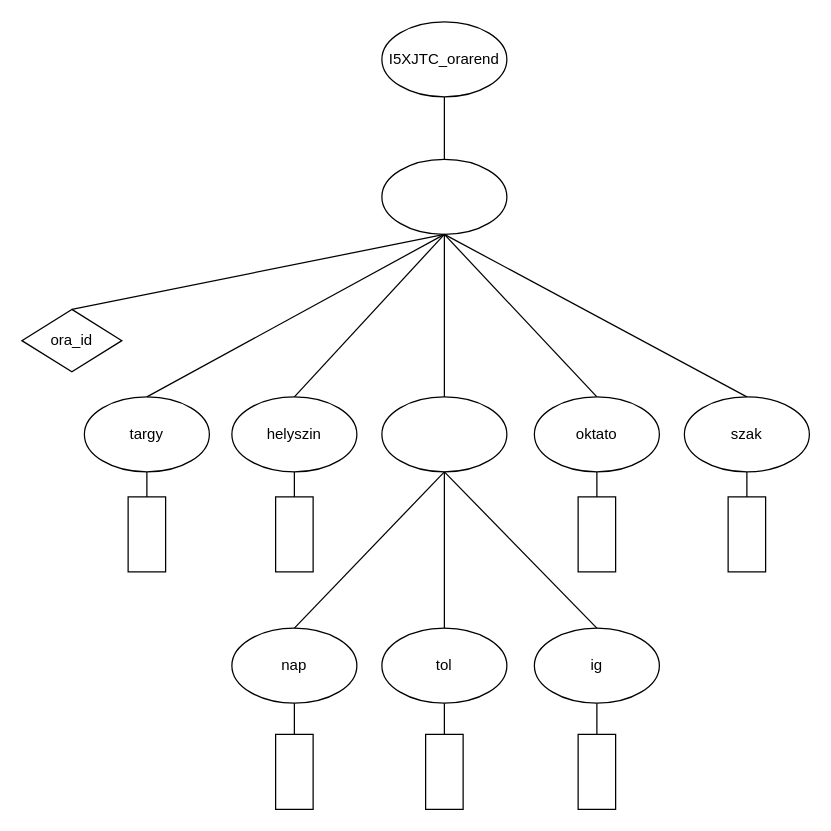
Some shapes in this 831 by 831 pixel diagram are drawn without their labels. Here are the shapes that lost their labels. From the top down, the box of each, then its label:
(381, 158, 507, 234): ora
(381, 396, 507, 472): idopont
